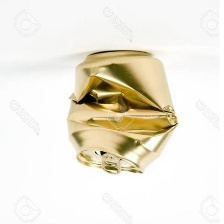can: (63, 43, 183, 180)
